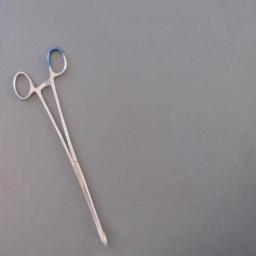Sponge Forceps: (9, 42, 113, 252)
